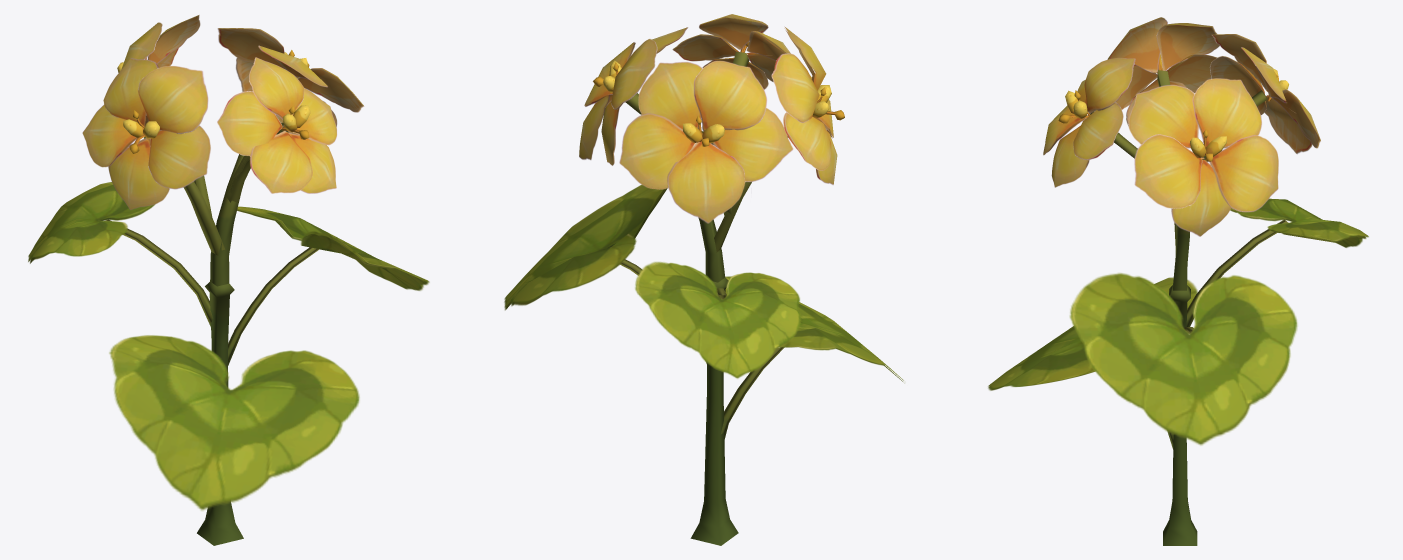
Rendered from Qingxin.glb.
3 views of the same model, side by side, from view 1: azimuth 30°, elevation 25°; view 2: azimuth 150°, elevation 25°; view 3: azimuth 270°, elevation 25° (orthographic). The views are drawn at different scales.
Parts seen in each view (by area): view 1: Property_Ani_Flower_QingxinBase_02_Vo, Property_Ani_Flower_Qingxin_02_Vo, Property_Ani_Flower_Qingxin_03_Vo; view 2: Property_Ani_Flower_Qingxin_02_Vo, Property_Ani_Flower_QingxinBase_02_Vo, Property_Ani_Flower_Qingxin_03_Vo; view 3: Property_Ani_Flower_QingxinBase_02_Vo, Property_Ani_Flower_Qingxin_02_Vo, Property_Ani_Flower_Qingxin_03_Vo.
Part boxes in pixels (x1=…): Property_Ani_Flower_QingxinBase_02_Vo: x1=28, y1=182, x2=429, y2=545; Property_Ani_Flower_Qingxin_02_Vo: x1=82, y1=15, x2=363, y2=286; Property_Ani_Flower_Qingxin_03_Vo: x1=82, y1=15, x2=363, y2=286; Property_Ani_Flower_Qingxin_02_Vo: x1=579, y1=14, x2=844, y2=282; Property_Ani_Flower_QingxinBase_02_Vo: x1=504, y1=184, x2=903, y2=545; Property_Ani_Flower_Qingxin_03_Vo: x1=579, y1=23, x2=833, y2=282; Property_Ani_Flower_QingxinBase_02_Vo: x1=988, y1=198, x2=1368, y2=545; Property_Ani_Flower_Qingxin_02_Vo: x1=1043, y1=17, x2=1320, y2=290; Property_Ani_Flower_Qingxin_03_Vo: x1=1044, y1=19, x2=1320, y2=290.
Size of the model in its own units: 0.5777 by 0.7531 by 0.5807.
1 material, 1 textured.
